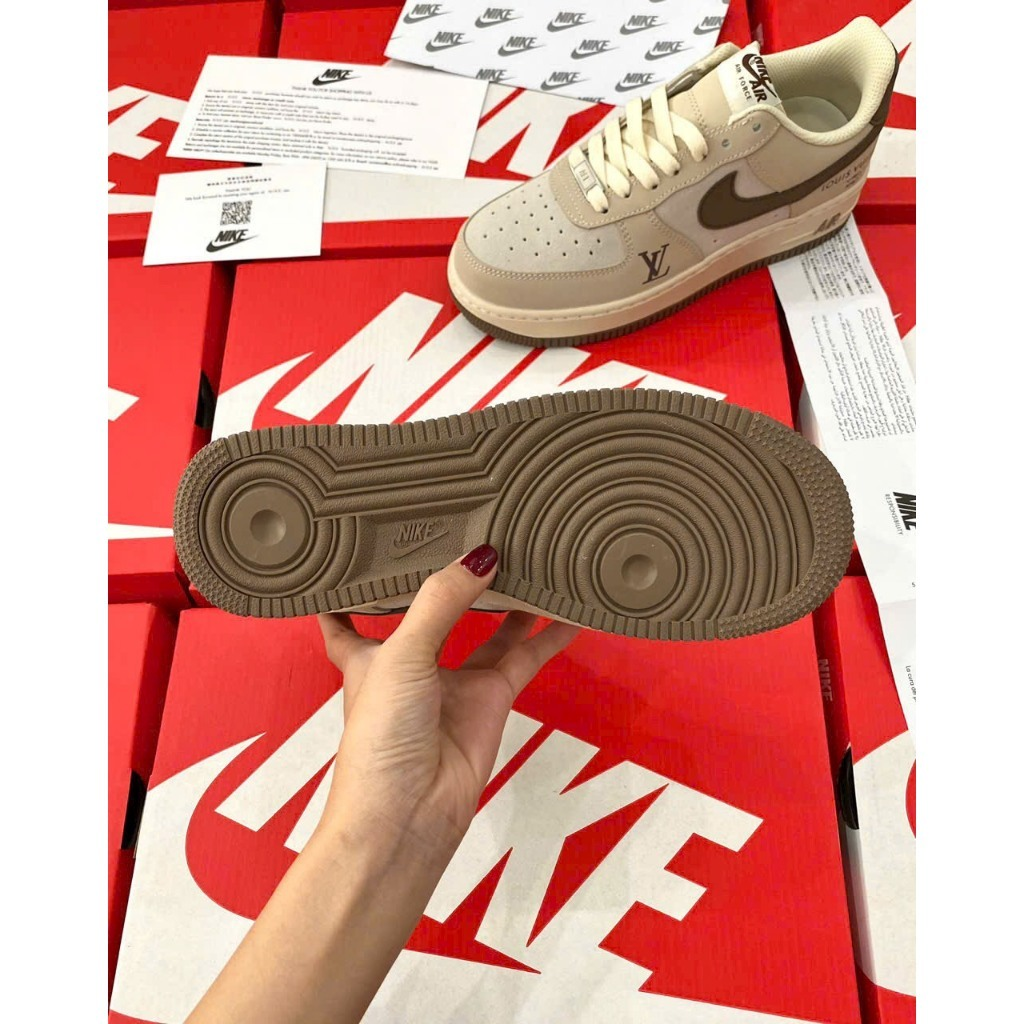sneakers: (172, 384, 852, 642), (444, 18, 899, 345)
